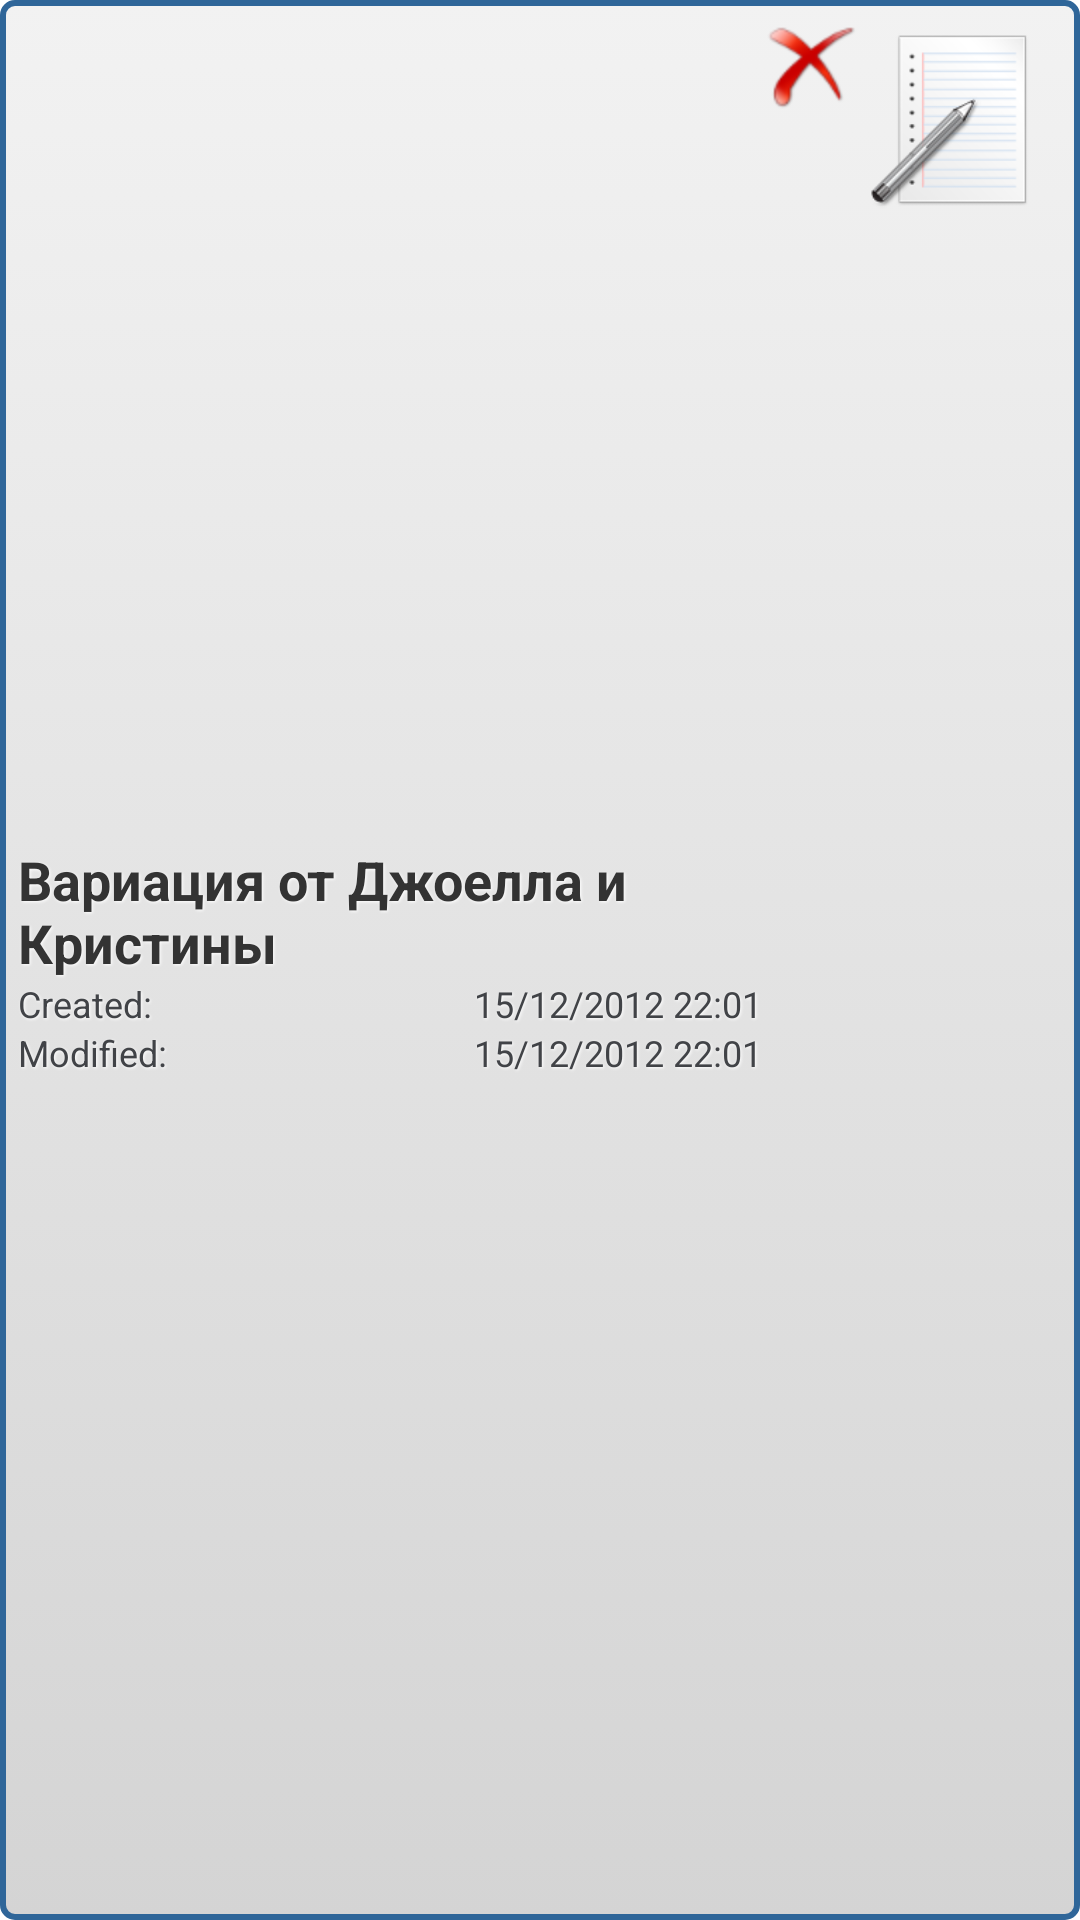

Named icons in this screenshot (1080*1920) and their centers, [x,y]:
delete: [812,67]
